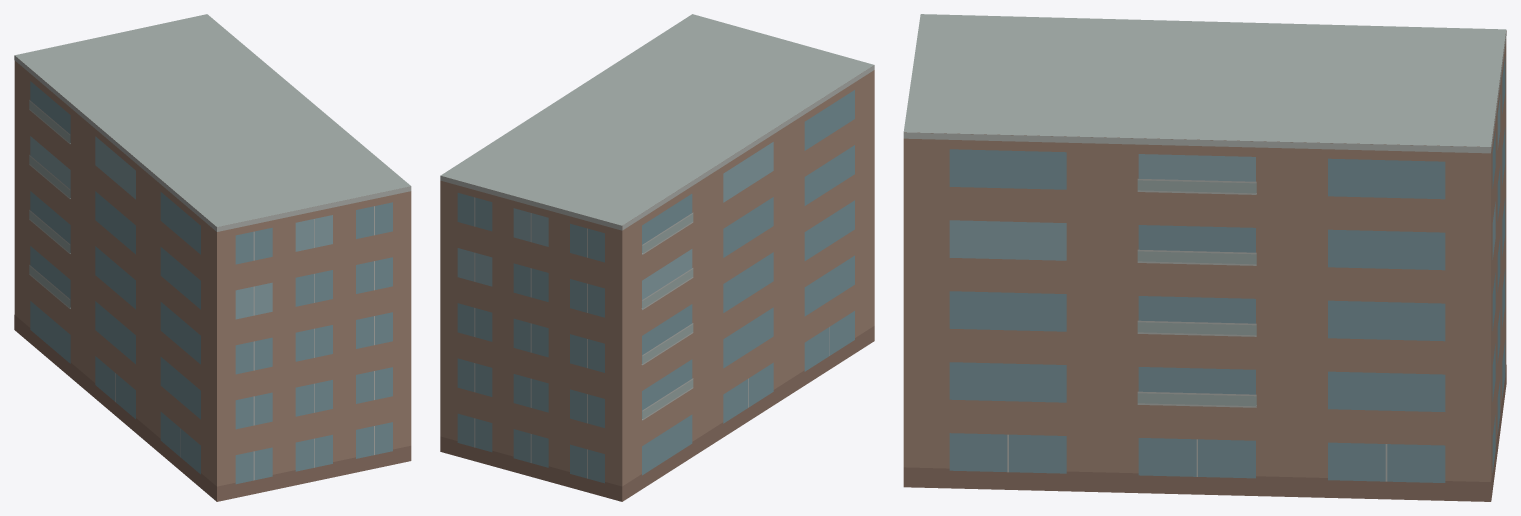
Rendered from survey-upis-32763946.glb.
The picture shows the model from 3 angles, left to right: view 1: azimuth 30°, elevation 25°; view 2: azimuth 150°, elevation 25°; view 3: azimuth 270°, elevation 25°; orthographic projection. The views are drawn at different scales.
Parts seen in each view (by area): view 1: survey-upis-32763946.tmp; view 2: survey-upis-32763946.tmp; view 3: survey-upis-32763946.tmp.
Part boxes in pixels (bbox=[...]): survey-upis-32763946.tmp: bbox=[14, 14, 411, 501]; survey-upis-32763946.tmp: bbox=[440, 14, 874, 501]; survey-upis-32763946.tmp: bbox=[903, 14, 1506, 501].
Size of the model in its own units: 11.03 by 13.7 by 21.11.
